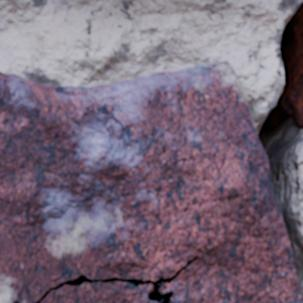brick: (0, 61, 302, 302)
crack: (256, 2, 302, 300)
